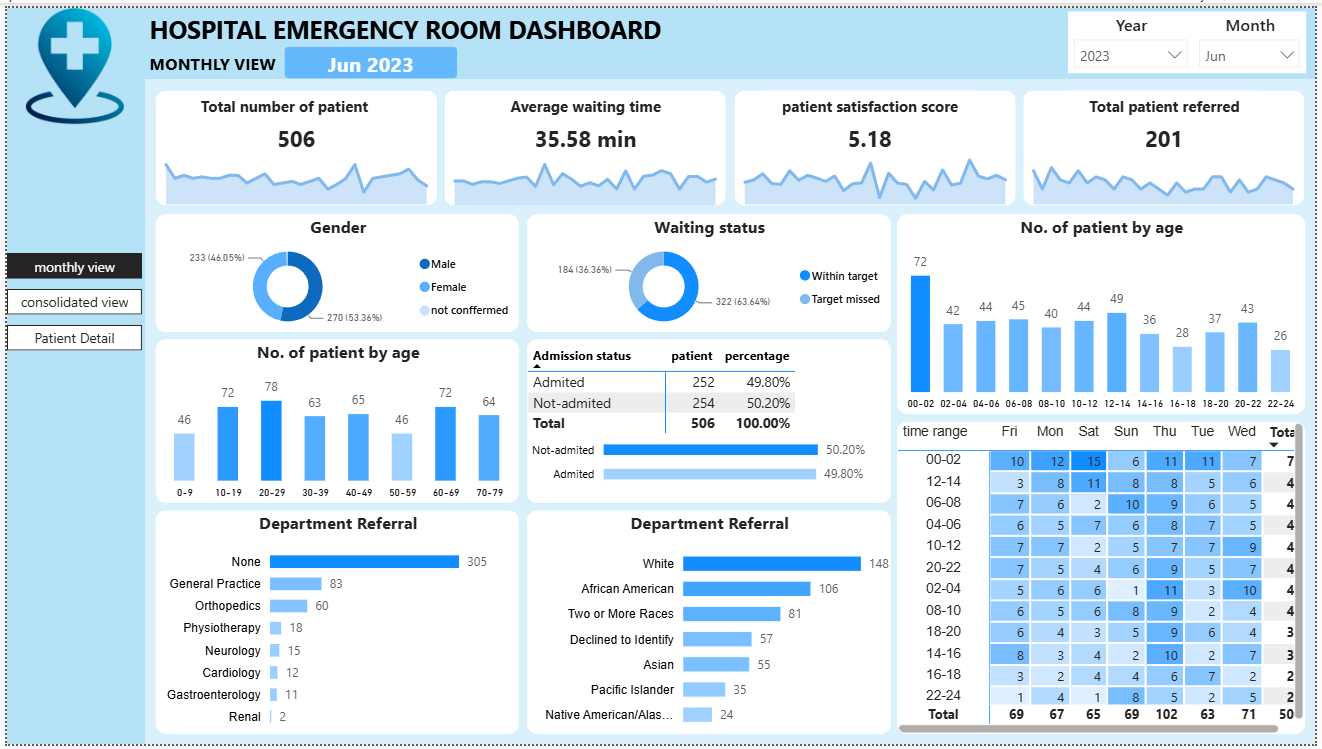

What the dashboard file says about the page in this screenshot:
{"tool":"powerbi","page":{"name":"monthly view","canvas":[1280,720],"ordinal":0},"visuals":[{"type":"shape","box":[134.5,0,1145.8,69.7],"z":0},{"type":"barChart","title":"Department Referral","fields":{"Category":["Hospital ER_Data.Department Referral"],"Y":["all messure.Total number of pationt"]},"box":[145.5,491.8,355.5,218.7],"z":0,"group":"g3"},{"type":"shape","box":[0,0,135.1,720.2],"z":1000},{"type":"barChart","title":"Department Referral","fields":{"Y":["all messure.Total number of pationt"],"Category":["Hospital ER_Data.Patient Race"]},"box":[508.5,491.8,355.8,218.7],"z":1000,"group":"g3"},{"type":"textbox","box":[135,0,533.8,37.5],"z":2000},{"type":"pivotTable","title":"Patient admission status","fields":{"Rows":["Hospital ER_Data.Patient Admission status"],"Values":["Hospital ER_Data.Total number of pationt","Divide(Hospital ER_Data.Total number of pationt, ScopedEval(Hospital ER_Data.Total number of pationt, []))"]},"box":[508.5,324.7,355.8,159.7],"z":2000,"group":"g3"},{"type":"textbox","box":[134.5,37.9,143.1,31.8],"z":3000},{"type":"columnChart","title":"No. of patient by age ","fields":{"Category":["Hospital ER_Data.age group"],"Y":["all messure.Total number of pationt"]},"box":[145.5,324.7,355.5,159.7],"z":3000,"group":"g3"},{"type":"image","box":[0,0,132.5,113.8],"z":4000},{"type":"donutChart","title":"Waiting status","fields":{"Category":["Hospital ER_Data.waiting status"],"Y":["all messure.Total number of pationt"]},"box":[508.5,201.8,355.8,115.5],"z":4000,"group":"g3"},{"type":"cardVisual","fields":{"Data":["Min(calendar.Month & Year)"]},"box":[271.5,37.9,170,31.8],"z":5000},{"type":"shape","box":[145.5,80.7,275.1,112.5],"z":5000,"group":"g2"},{"type":"donutChart","title":"Gender","fields":{"Y":["all messure.Total number of pationt"],"Category":["Hospital ER_Data.Patient Gender"]},"box":[145.5,201.8,355.5,115.5],"z":5000,"group":"g3"},{"type":"group","id":"g1","title":"Group 1","box":[1038.2,3.7,232.3,59.9],"z":6000},{"type":"shape","box":[711.7,80.7,275.1,112.5],"z":6000,"group":"g2"},{"type":"columnChart","title":"No. of patient by age ","fields":{"Category":["Hospital ER_Data.time range"],"Y":["all messure.Total number of pationt"]},"box":[870.2,201.8,399,195.4],"z":6000,"group":"g3"},{"type":"group","id":"g2","title":"Group 2","box":[145.5,80.7,1123.8,112.5],"z":7000},{"type":"shape","box":[994.1,80.7,275.1,112.5],"z":7000,"group":"g2"},{"type":"pivotTable","fields":{"Rows":["Hospital ER_Data.time range"],"Values":["all messure.Total number of pationt"],"Columns":["calendar.dayname"]},"box":[870.2,404.5,399,306],"z":7000,"group":"g3"},{"type":"shape","box":[428,80.7,275.1,112.5],"z":8000,"group":"g2"},{"type":"group","id":"g3","title":"Group 3","box":[145.5,201.8,1123.8,508.7],"z":8000},{"type":"barChart","fields":{"Category":["Hospital ER_Data.Patient Admission status"],"Y":["all messure.Total number of pationt"]},"box":[508.7,397.5,331.4,86.8],"z":8000,"group":"g3"},{"type":"slicer","title":"Month","fields":{"Values":["calendar.month"]},"box":[1160.5,3.7,110.1,59.9],"z":9000,"group":"g1"},{"type":"cardVisual","fields":{"Data":["Hospital ER_Data.Total number of pationt"]},"box":[247,100.3,72.1,53.6],"z":9000,"group":"g2"},{"type":"pageNavigator","box":[0,240,132.5,97.5],"z":9000},{"type":"areaChart","fields":{"Category":["calendar.Date"],"Y":["Hospital ER_Data.Total number of pationt"]},"box":[145.5,138.3,275.1,54.9],"z":10000,"group":"g2"},{"type":"slicer","title":"Year","fields":{"Values":["calendar.year"]},"box":[1038.2,3.7,122.3,59.9],"z":11000,"group":"g1"},{"type":"textbox","box":[178.5,80.7,185.9,37.9],"z":11000,"group":"g2"},{"type":"cardVisual","fields":{"Data":["Hospital ER_Data.Average waiting time"]},"box":[502.6,100.3,127.2,53.6],"z":12000,"group":"g2"},{"type":"cardVisual","fields":{"Data":["Avg(Hospital ER_Data.Patient Satisfaction Score)"]},"box":[809.5,100.3,69.7,53.6],"z":13000,"group":"g2"},{"type":"cardVisual","fields":{"Data":["Hospital ER_Data.patient referred"]},"box":[1096.9,100.3,70.9,53.6],"z":14000,"group":"g2"},{"type":"areaChart","fields":{"Category":["calendar.Date"],"Y":["Hospital ER_Data.patient referred"]},"box":[994.1,138.3,273.9,54.9],"z":15000,"group":"g2"},{"type":"areaChart","fields":{"Category":["calendar.Date"],"Y":["Avg(Hospital ER_Data.Patient Satisfaction Score)"]},"box":[711.7,138.3,275.1,54.9],"z":16000,"group":"g2"},{"type":"areaChart","fields":{"Category":["calendar.Date"],"Y":["Avg(Hospital ER_Data.Patient Waittime)"]},"box":[428,137,275.1,56.3],"z":17000,"group":"g2"},{"type":"textbox","box":[473.2,80.7,185.9,37.9],"z":18000,"group":"g2"},{"type":"textbox","box":[739.8,80.7,209.1,37.9],"z":19000,"group":"g2"},{"type":"textbox","box":[1039.4,80.7,185.9,37.9],"z":20000,"group":"g2"}]}

Visuals, with their boxes in screenshot pixels (x1, y1, x2, y2), scaled from the page's 1280x720 canvas onto the 1322x749 screenshot:
shape: pyautogui.locateOnScreen(139, 0, 1321, 73)
"Department Referral" barChart: pyautogui.locateOnScreen(150, 512, 517, 739)
shape: pyautogui.locateOnScreen(0, 0, 140, 748)
"Department Referral" barChart: pyautogui.locateOnScreen(525, 512, 893, 739)
textbox: pyautogui.locateOnScreen(139, 0, 691, 39)
"Patient admission status" pivotTable: pyautogui.locateOnScreen(525, 338, 893, 504)
textbox: pyautogui.locateOnScreen(139, 39, 287, 73)
"No. of patient by age " columnChart: pyautogui.locateOnScreen(150, 338, 517, 504)
image: pyautogui.locateOnScreen(0, 0, 137, 118)
"Waiting status" donutChart: pyautogui.locateOnScreen(525, 210, 893, 330)
cardVisual - Min(calendar.Month & Year): pyautogui.locateOnScreen(280, 39, 456, 73)
shape: pyautogui.locateOnScreen(150, 84, 434, 201)
"Gender" donutChart: pyautogui.locateOnScreen(150, 210, 517, 330)
"Group 1" group: pyautogui.locateOnScreen(1072, 4, 1312, 66)
shape: pyautogui.locateOnScreen(735, 84, 1019, 201)
"No. of patient by age " columnChart: pyautogui.locateOnScreen(899, 210, 1311, 413)
"Group 2" group: pyautogui.locateOnScreen(150, 84, 1311, 201)
shape: pyautogui.locateOnScreen(1027, 84, 1311, 201)
pivotTable - Hospital ER_Data.time range x all messure.Total number of pationt: pyautogui.locateOnScreen(899, 421, 1311, 739)
shape: pyautogui.locateOnScreen(442, 84, 726, 201)
"Group 3" group: pyautogui.locateOnScreen(150, 210, 1311, 739)
barChart - Hospital ER_Data.Patient Admission status x all messure.Total number of pationt: pyautogui.locateOnScreen(525, 414, 868, 504)
"Month" slicer: pyautogui.locateOnScreen(1199, 4, 1312, 66)
cardVisual - Hospital ER_Data.Total number of pationt: pyautogui.locateOnScreen(255, 104, 330, 160)
pageNavigator: pyautogui.locateOnScreen(0, 250, 137, 351)
areaChart - calendar.Date x Hospital ER_Data.Total number of pationt: pyautogui.locateOnScreen(150, 144, 434, 201)
"Year" slicer: pyautogui.locateOnScreen(1072, 4, 1199, 66)
textbox: pyautogui.locateOnScreen(184, 84, 376, 123)
cardVisual - Hospital ER_Data.Average waiting time: pyautogui.locateOnScreen(519, 104, 650, 160)
cardVisual - Avg(Hospital ER_Data.Patient Satisfaction Score): pyautogui.locateOnScreen(836, 104, 908, 160)
cardVisual - Hospital ER_Data.patient referred: pyautogui.locateOnScreen(1133, 104, 1206, 160)
areaChart - calendar.Date x Hospital ER_Data.patient referred: pyautogui.locateOnScreen(1027, 144, 1310, 201)
areaChart - calendar.Date x Avg(Hospital ER_Data.Patient Satisfaction Score): pyautogui.locateOnScreen(735, 144, 1019, 201)
areaChart - calendar.Date x Avg(Hospital ER_Data.Patient Waittime): pyautogui.locateOnScreen(442, 143, 726, 201)
textbox: pyautogui.locateOnScreen(489, 84, 681, 123)
textbox: pyautogui.locateOnScreen(764, 84, 980, 123)
textbox: pyautogui.locateOnScreen(1074, 84, 1266, 123)
